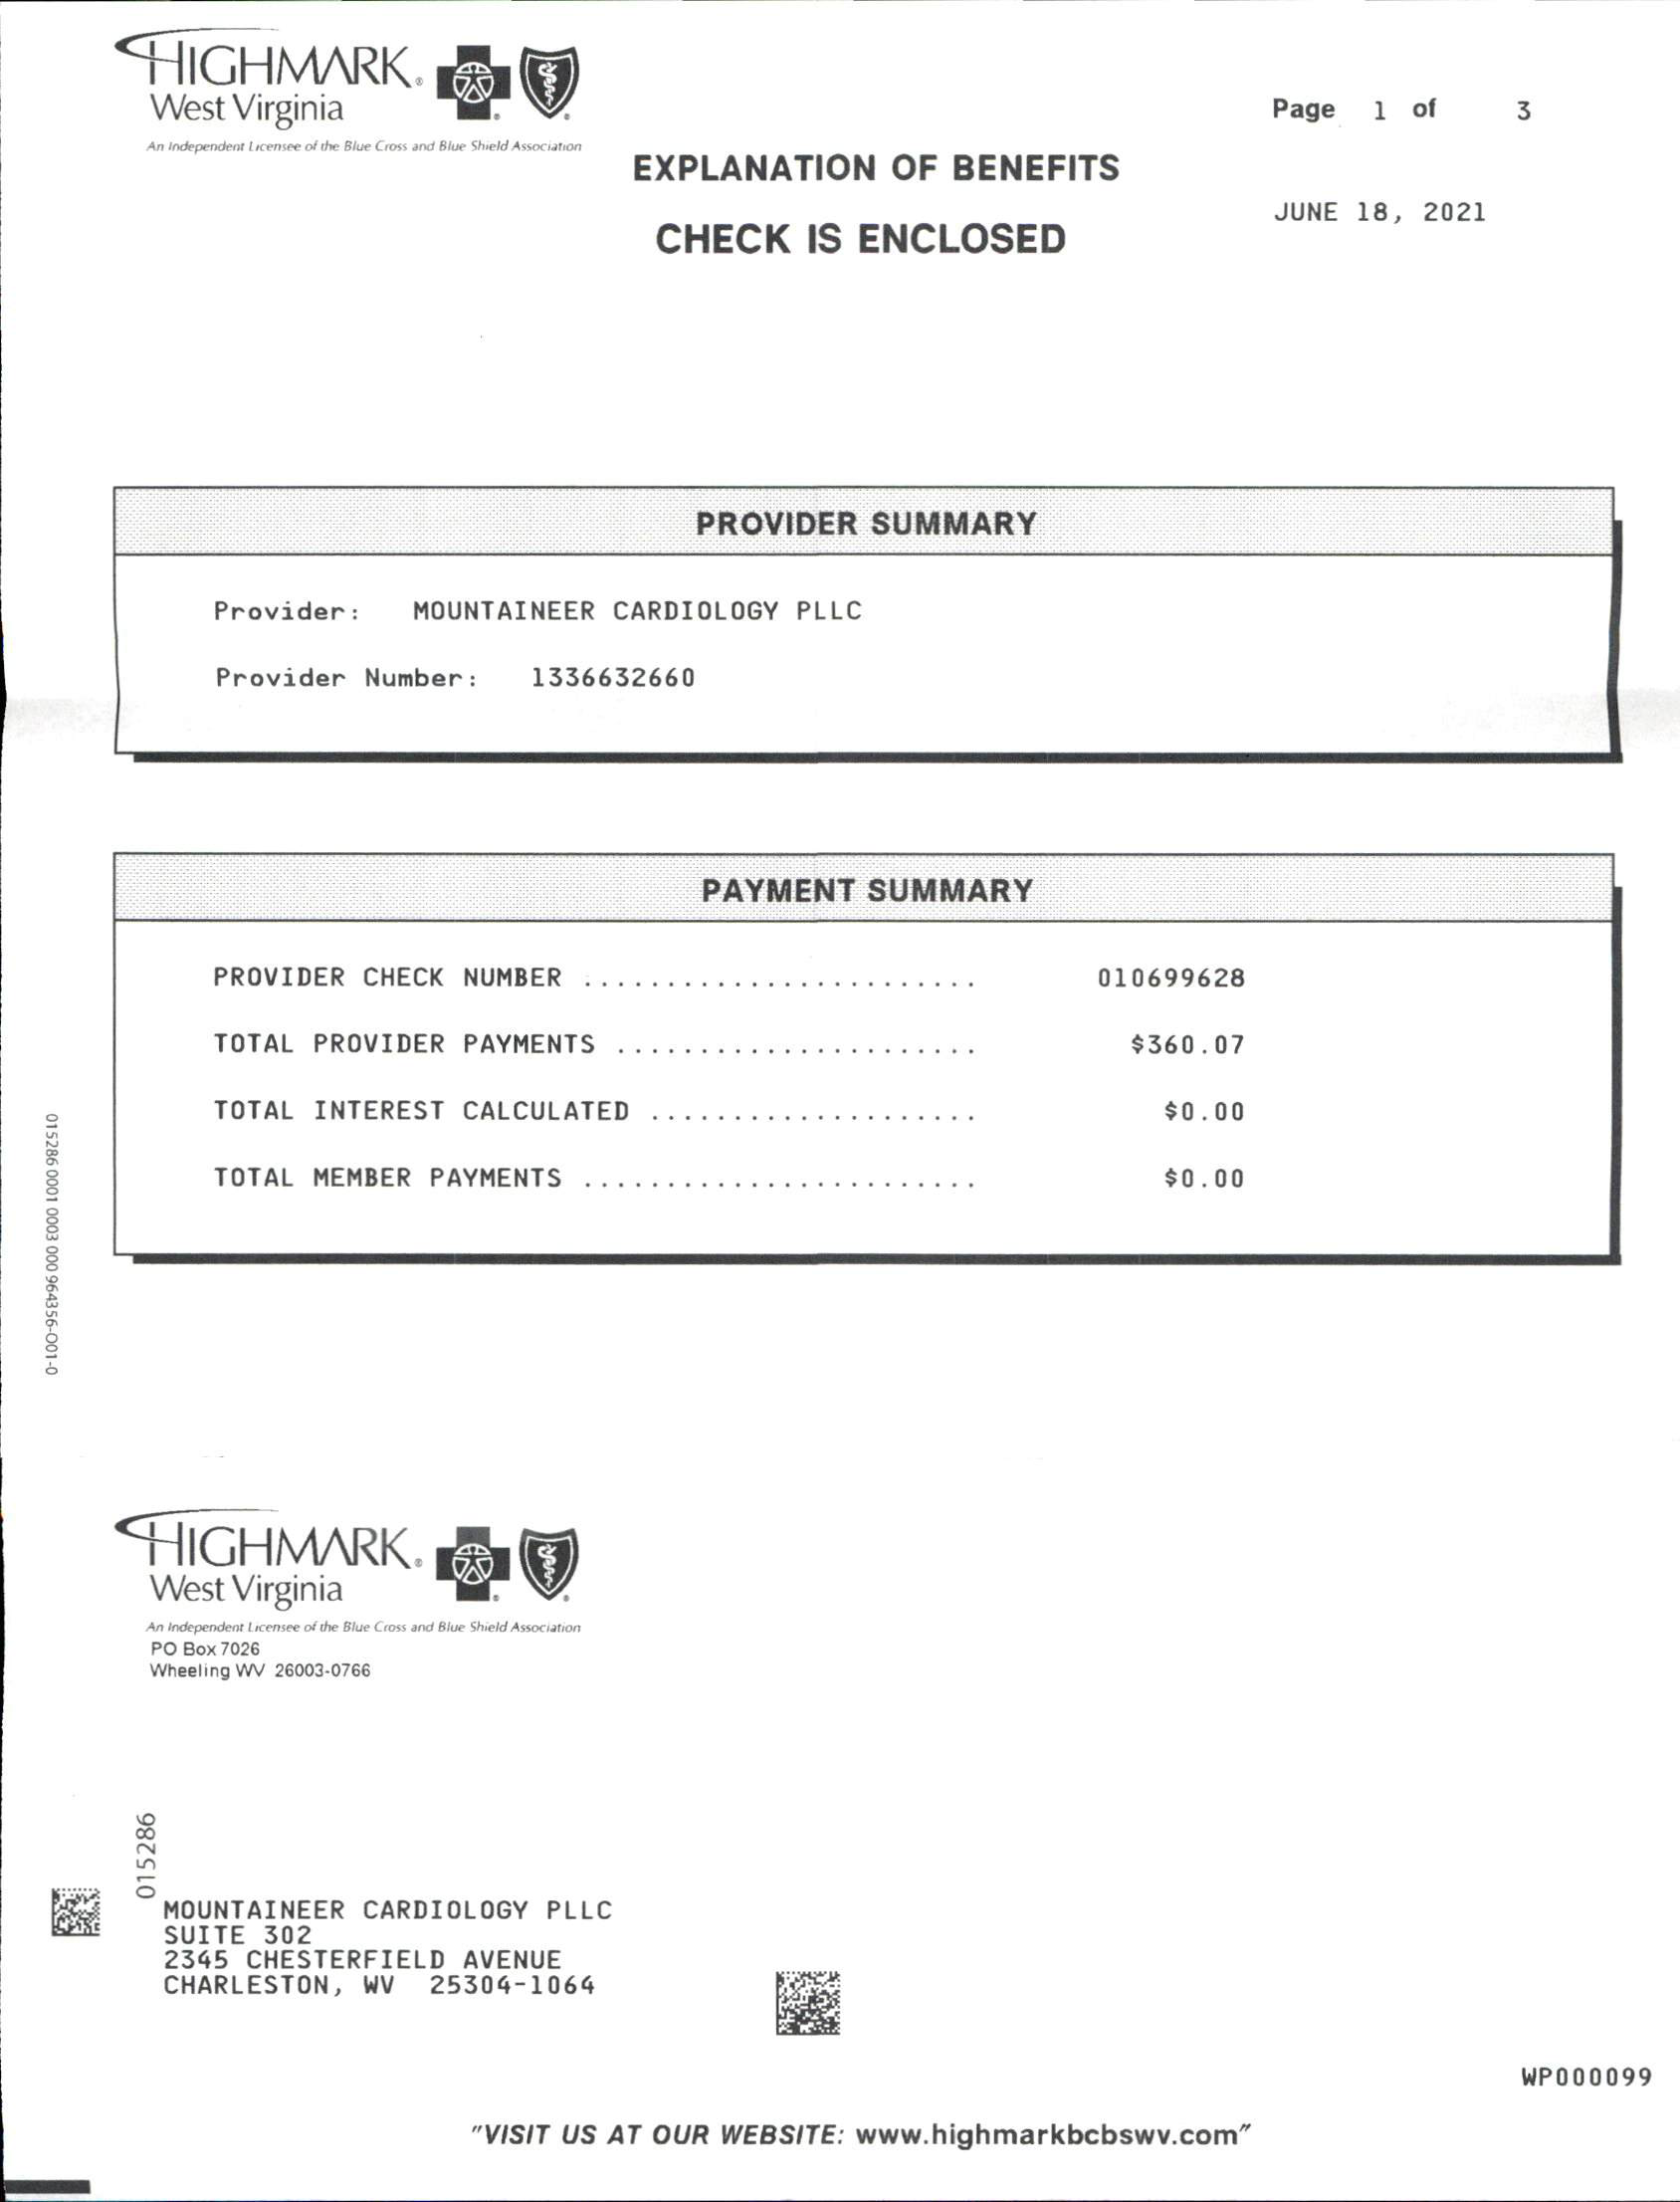data: (194, 932, 1288, 1210), (194, 579, 896, 729)
